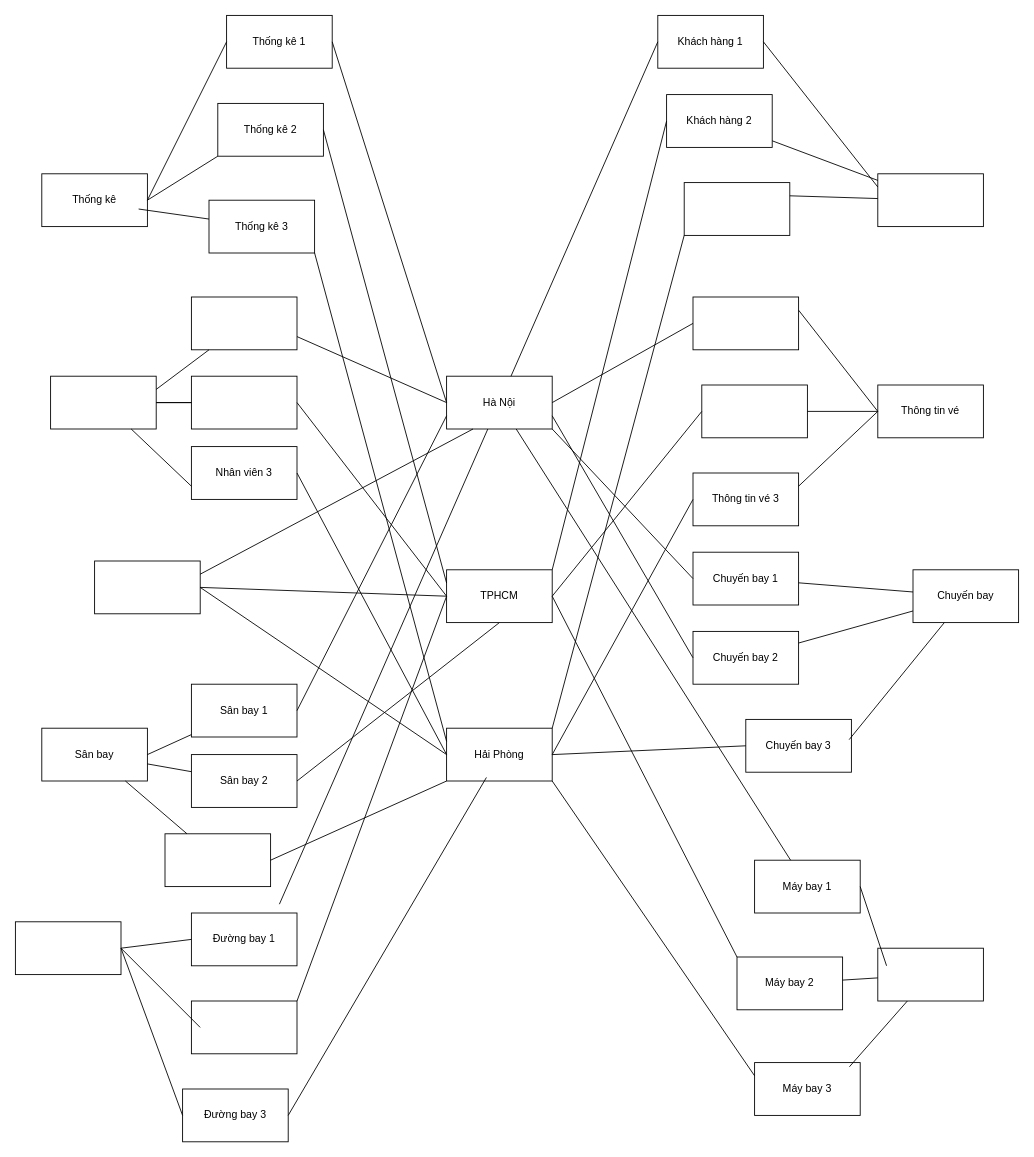
Image size: 1034x1157. Some labels were removed from this diagram. Each missing label, with the centre of its shape:
"Chi nhánh" goes at point (147, 587).
"Khách hàng" goes at point (930, 200).
"Khách hàng 3" goes at point (736, 208).
"Máy bay" goes at point (930, 974).
"Nhân viên" goes at point (103, 402).
"Nhân viên 1" goes at point (244, 323).
"Nhân viên 2" goes at point (244, 402).
"Sân bay 3" goes at point (217, 860).
"Thông tin vé 1" goes at point (745, 323).
"Thông tin vé 2" goes at point (754, 411).
"Đường bay" goes at point (68, 948).
"Đường bay 2" goes at point (244, 1027).
